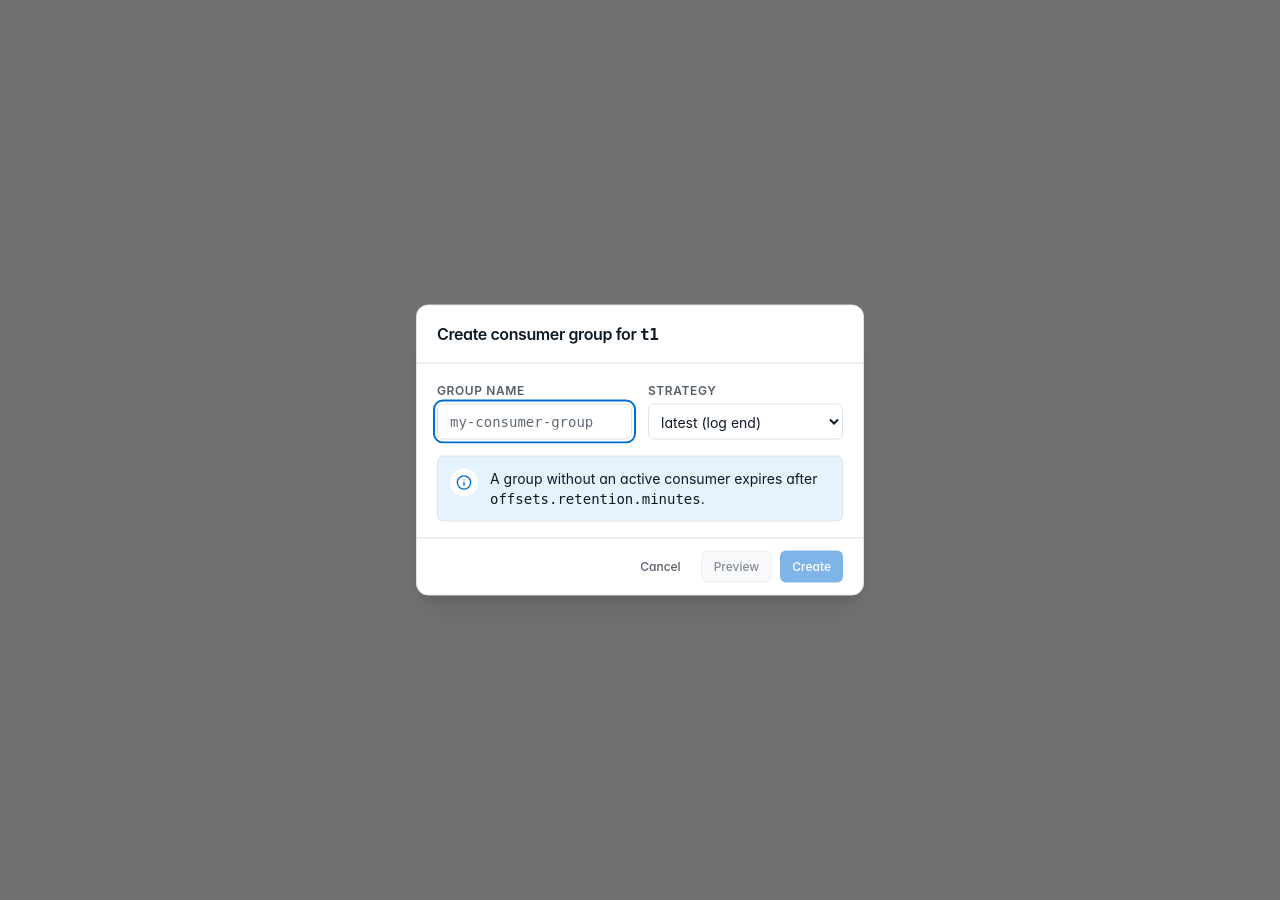
Test: CreateGroupModal › disables Preview/Create for a non-integer offset under the offset strategy
Type "g1" into the field labelled "Group name" at (534, 422), box [437,404,632,440]
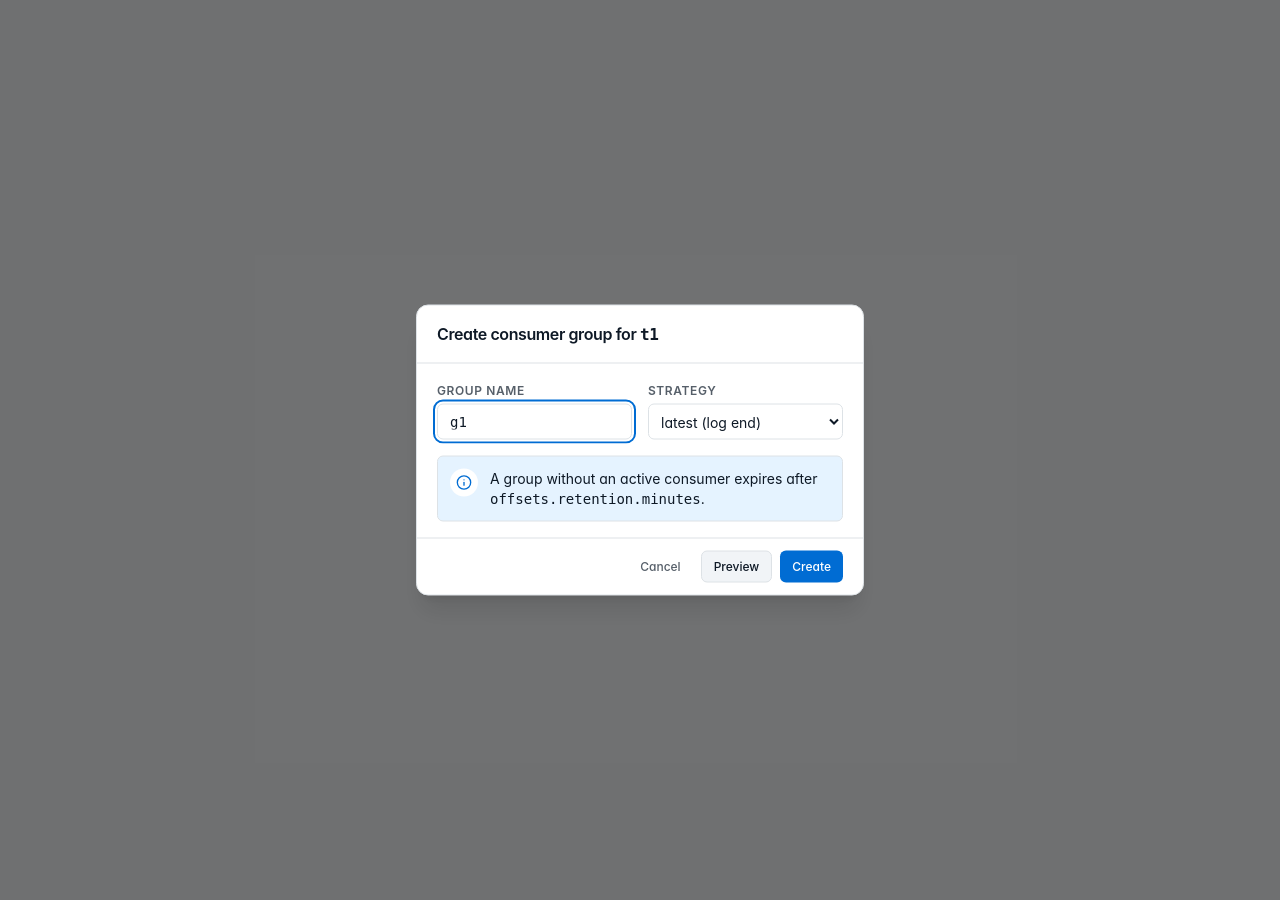
Select "specific offset" in the dropdown labelled "Strategy" at (746, 422), box [648,404,843,440]
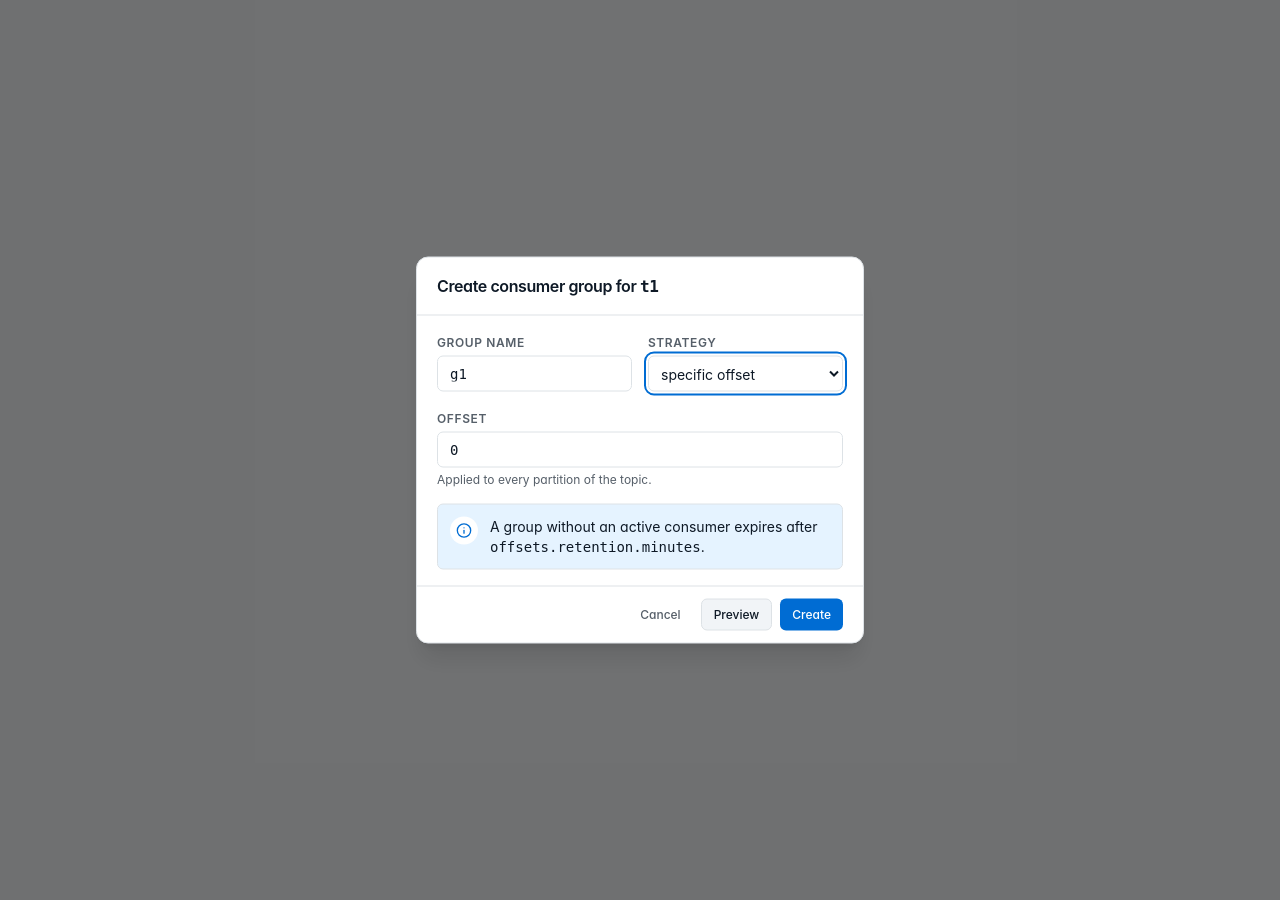
Clear the field labelled "Offset Applied to every partition of the topic." at (640, 450), box [437,432,843,468]
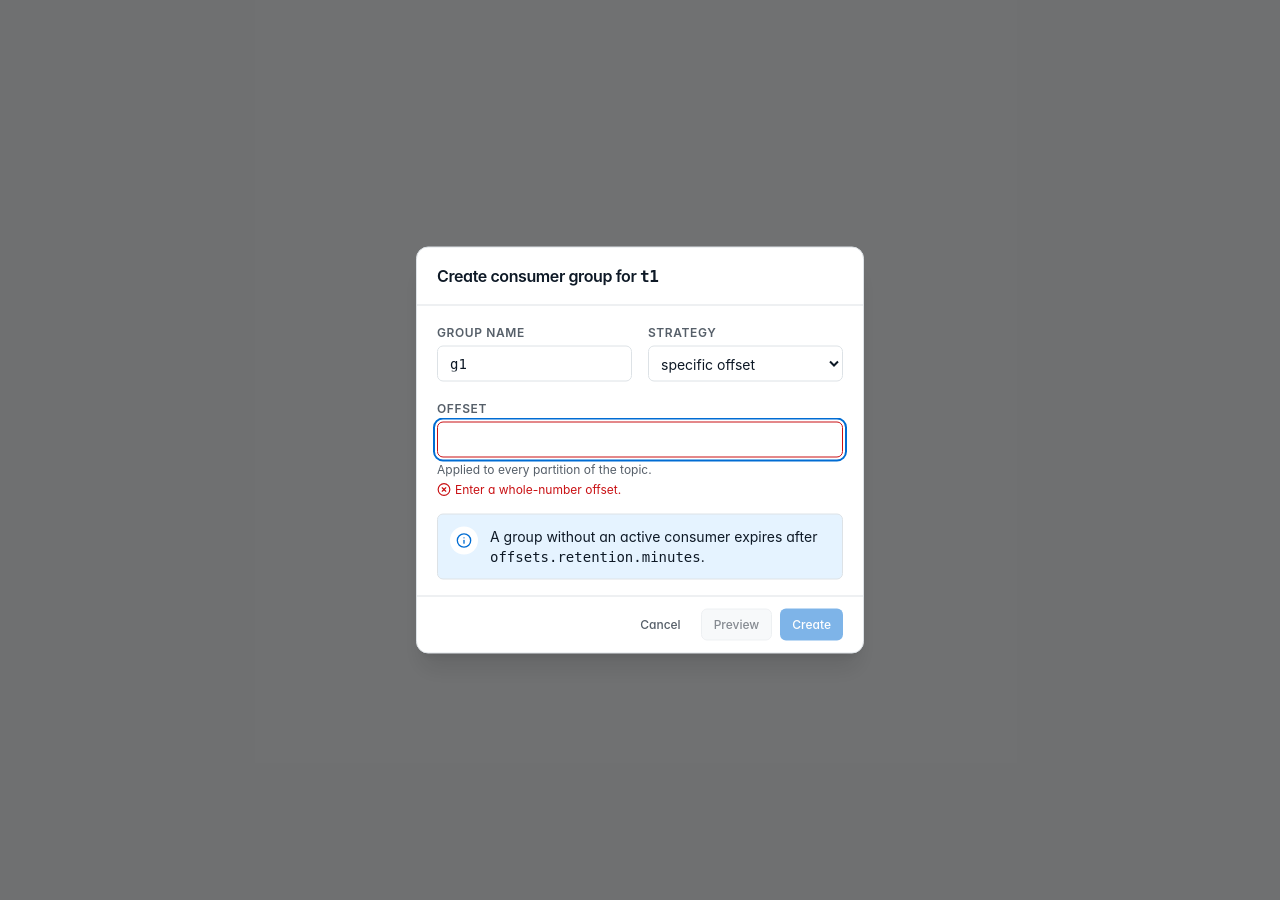
Type "1.5" into the field labelled "Offset Applied to every partition of the topic." at (640, 440), box [437,422,843,458]
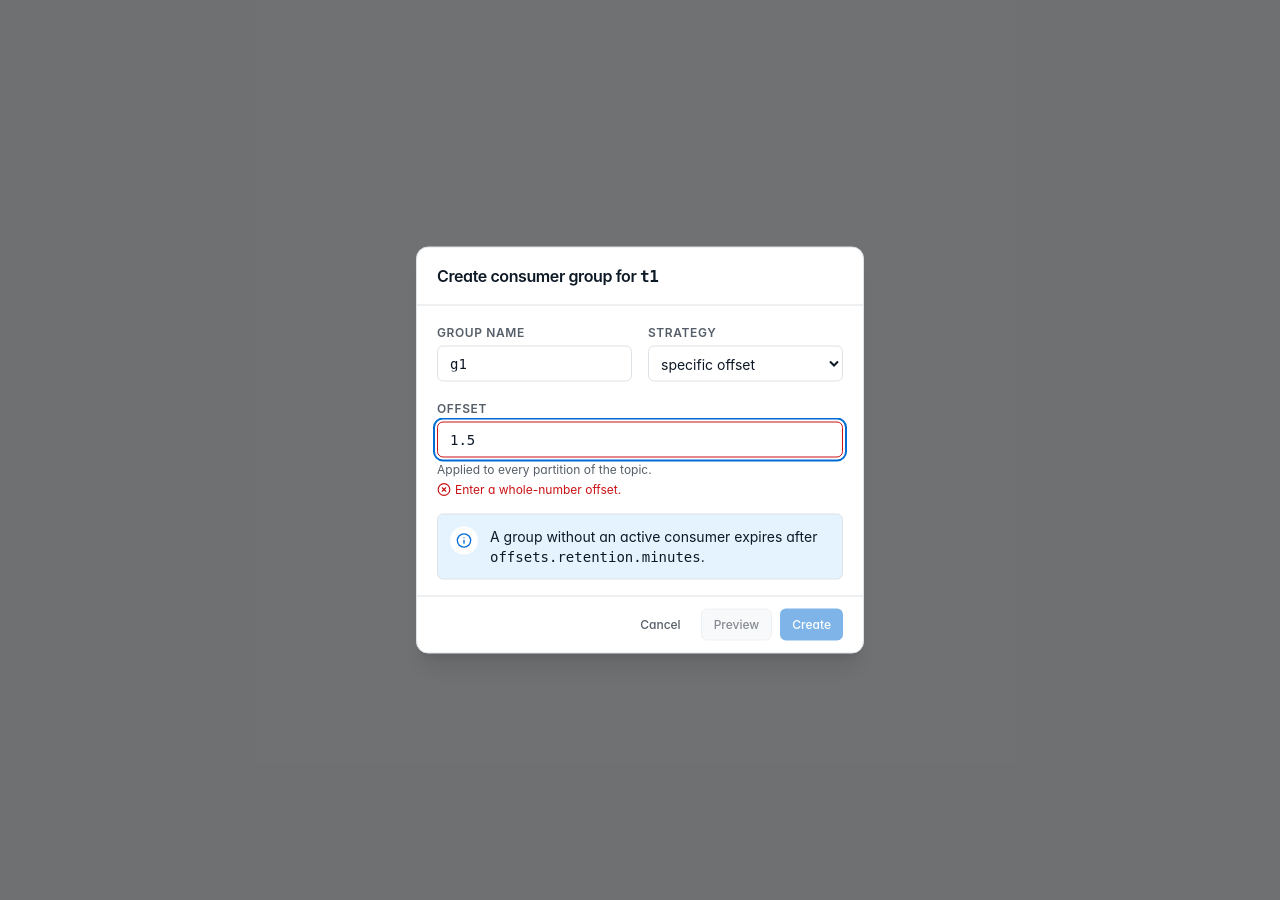
expect the button "Preview" is disabled: met, box [701,608,772,640]
expect the button "Create" is disabled: met, box [780,608,843,640]
Note: A valid integer re-enables the actions.
Replace the text in the field labelled "Offset Applied to every partition of the topic." with "10" at (640, 440), box [437,422,843,458]
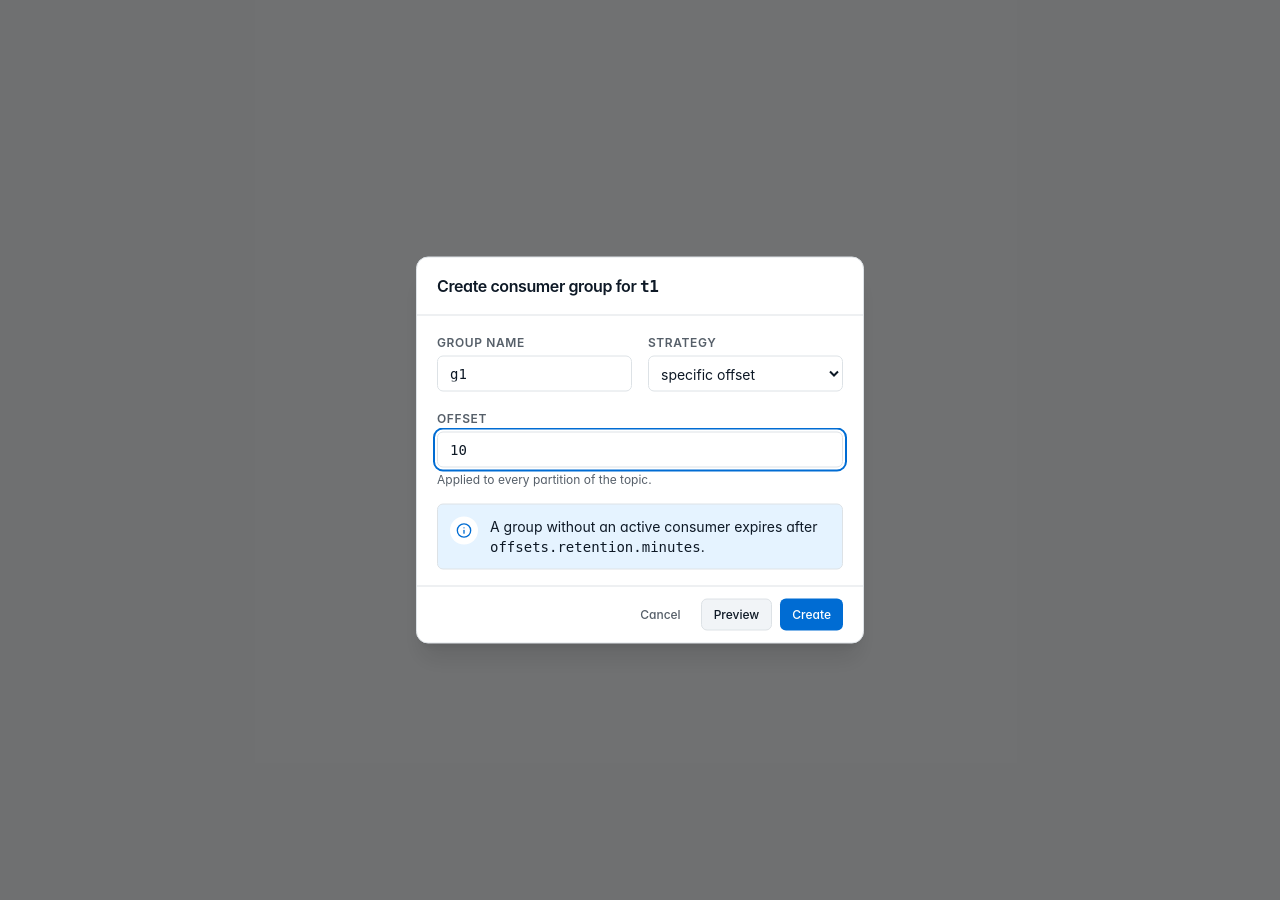
expect the button "Preview" is enabled: met, box [701,598,772,630]
expect the button "Create" is enabled: met, box [780,598,843,630]
